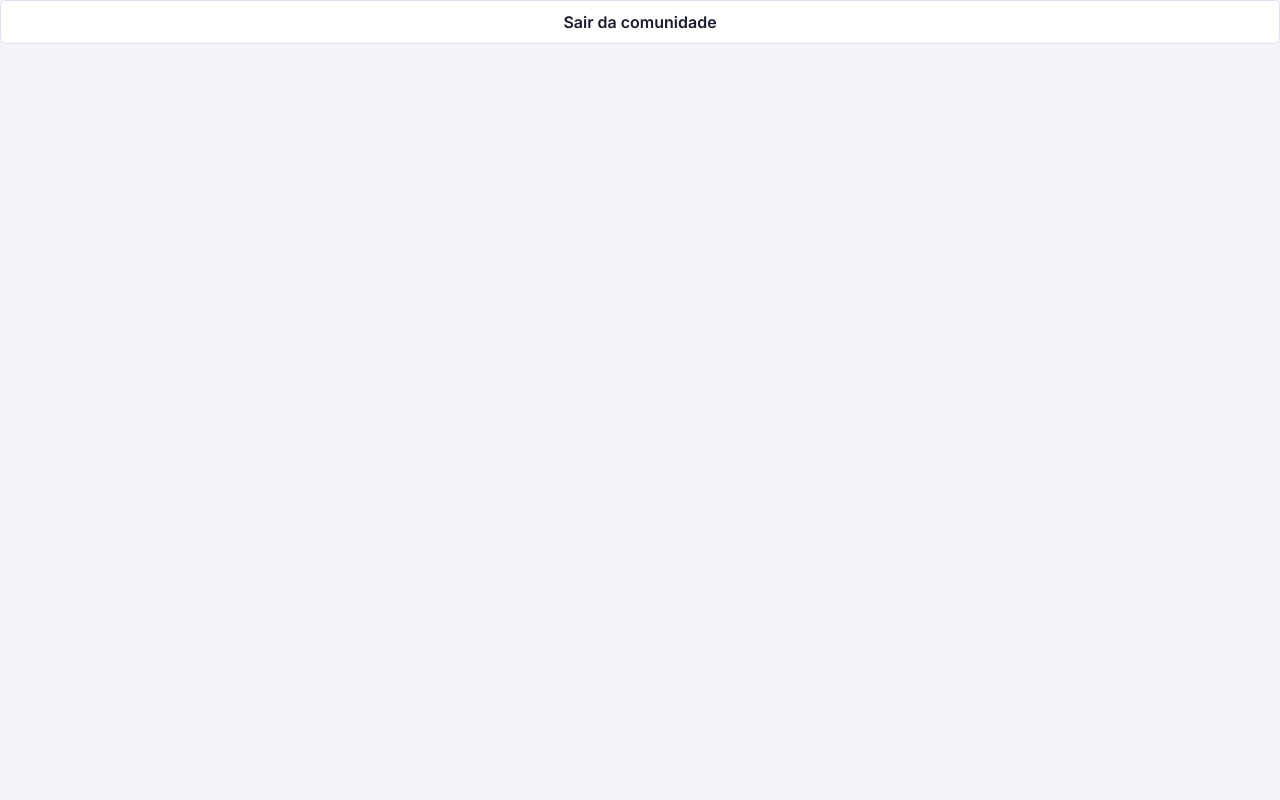
it: botão de entrar e sair da comunidade › pede confirmação explícita antes de sair
Later steps or results of the test are not shown.
Click the button "Sair da comunidade": (640, 22) x1=0 y1=0 x2=1279 y2=44
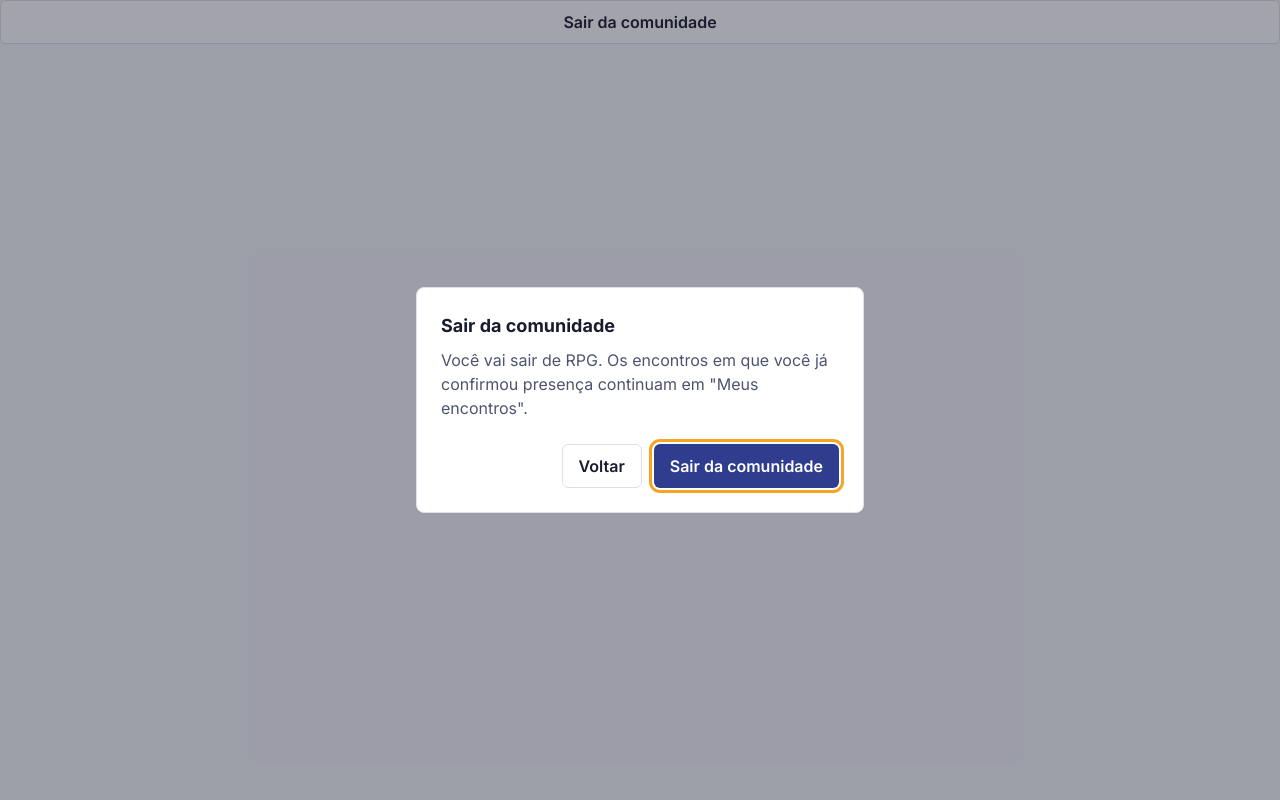
expect the dialog shows "Sair da comunidade": met, box x1=441 y1=315 x2=615 y2=336
